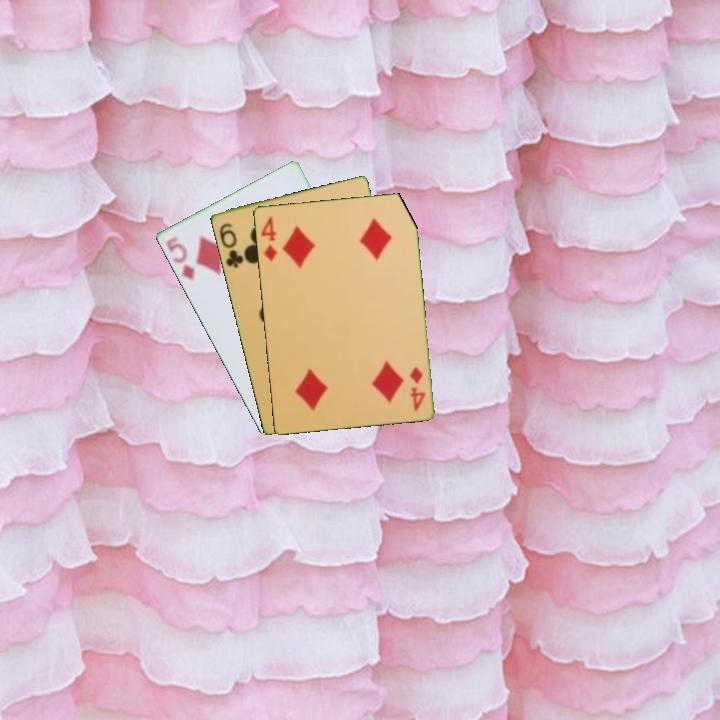4d: (257, 212, 280, 265), (406, 363, 428, 414)
5d: (162, 232, 197, 283)
6c: (215, 219, 246, 271)
